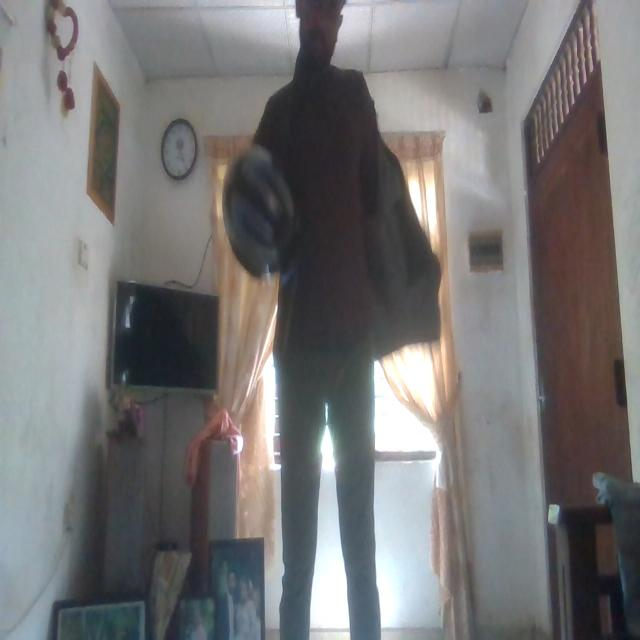Jacket_Wearer: (244, 66, 410, 365)
Person: (233, 0, 407, 640)
